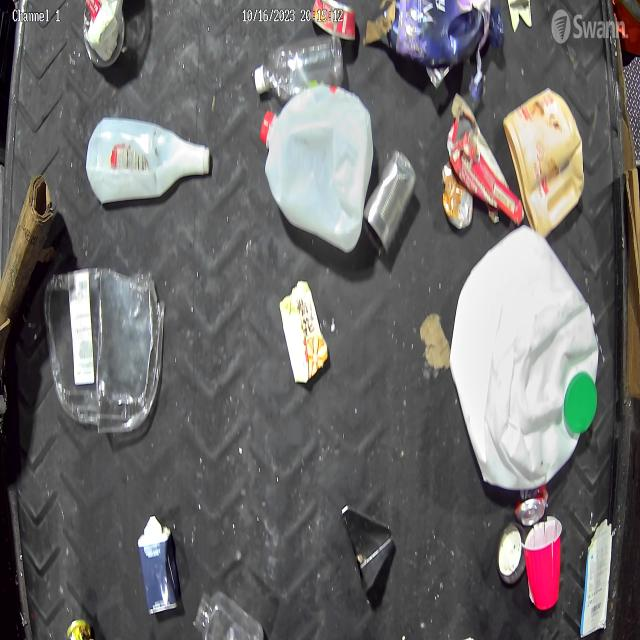can: (366, 147, 416, 269), (308, 0, 361, 51)
milk_jug: (450, 227, 600, 495), (260, 82, 375, 257)
non_white_jug: (387, 0, 504, 79)
plastic_bottle: (252, 32, 349, 108)
